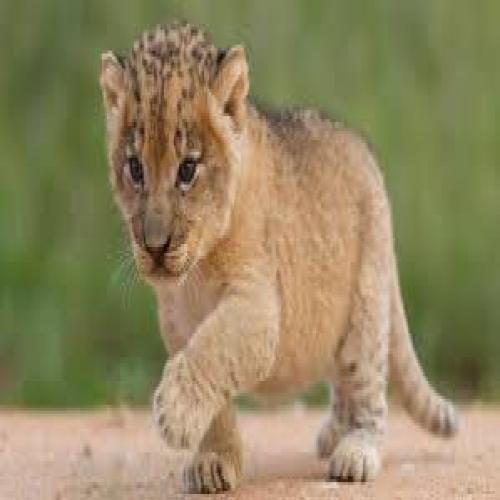lion-endangered: (102, 25, 457, 479)
